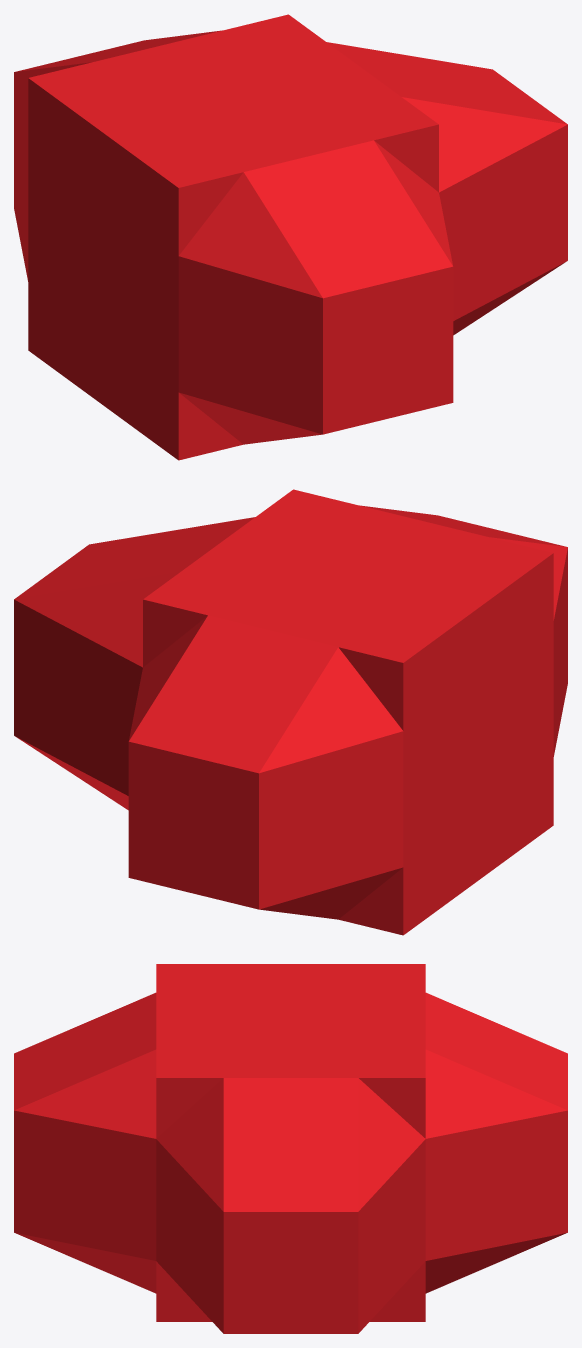
The model's file is enemy.fbx.
The picture shows the model from 3 angles, top to bottom: view 1: azimuth 30°, elevation 25°; view 2: azimuth 150°, elevation 25°; view 3: azimuth 270°, elevation 25°; orthographic projection. The views are drawn at different scales.
Parts seen in each view (by area): view 1: Cube; view 2: Cube; view 3: Cube.
Part boxes in pixels (box(x1,y1,x2,y2)): Cube: box(14, 14, 567, 460); Cube: box(14, 489, 567, 935); Cube: box(14, 964, 567, 1333).
Size of the model in its own units: 328 by 200 by 411.
Materials: 1 (1 with a texture image).
